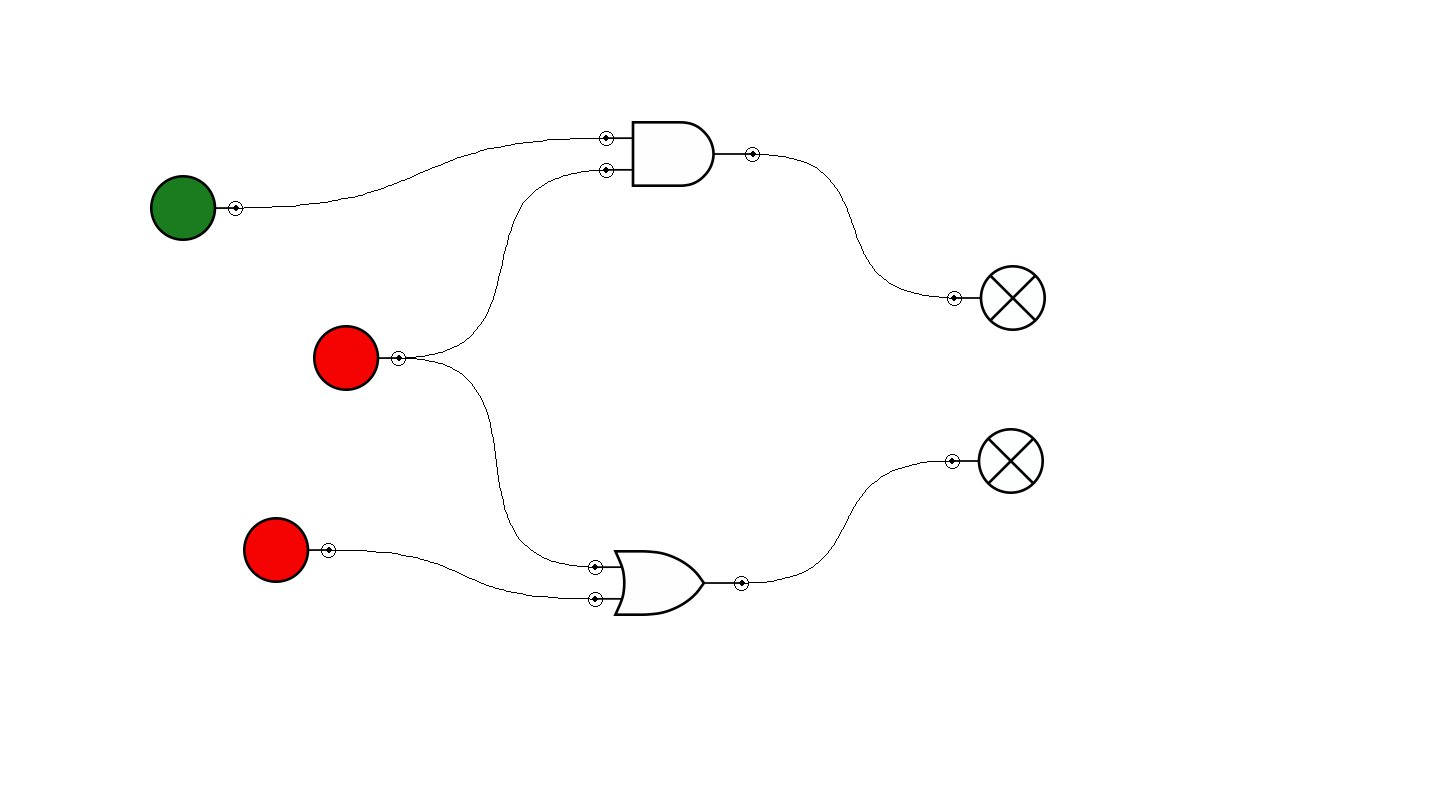and: (599, 121, 760, 187)
bulb: (947, 265, 1046, 331), (945, 428, 1044, 494)
or: (588, 550, 749, 616)
switch_False: (243, 517, 336, 583), (313, 325, 406, 391)
switch_True: (150, 175, 243, 241)
